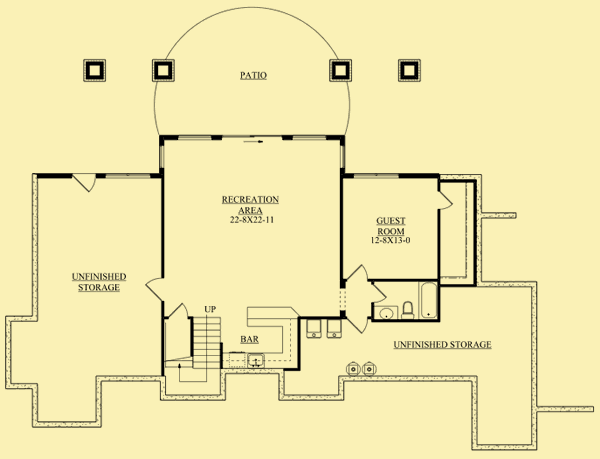door: (70, 171, 101, 195), (342, 309, 370, 334), (145, 275, 167, 306), (342, 265, 371, 284), (367, 284, 388, 306), (437, 190, 455, 211)
large_sink: (399, 300, 417, 320)
small_sink: (371, 305, 399, 319)
stairs: (163, 300, 224, 395)
tub: (418, 279, 439, 322)
